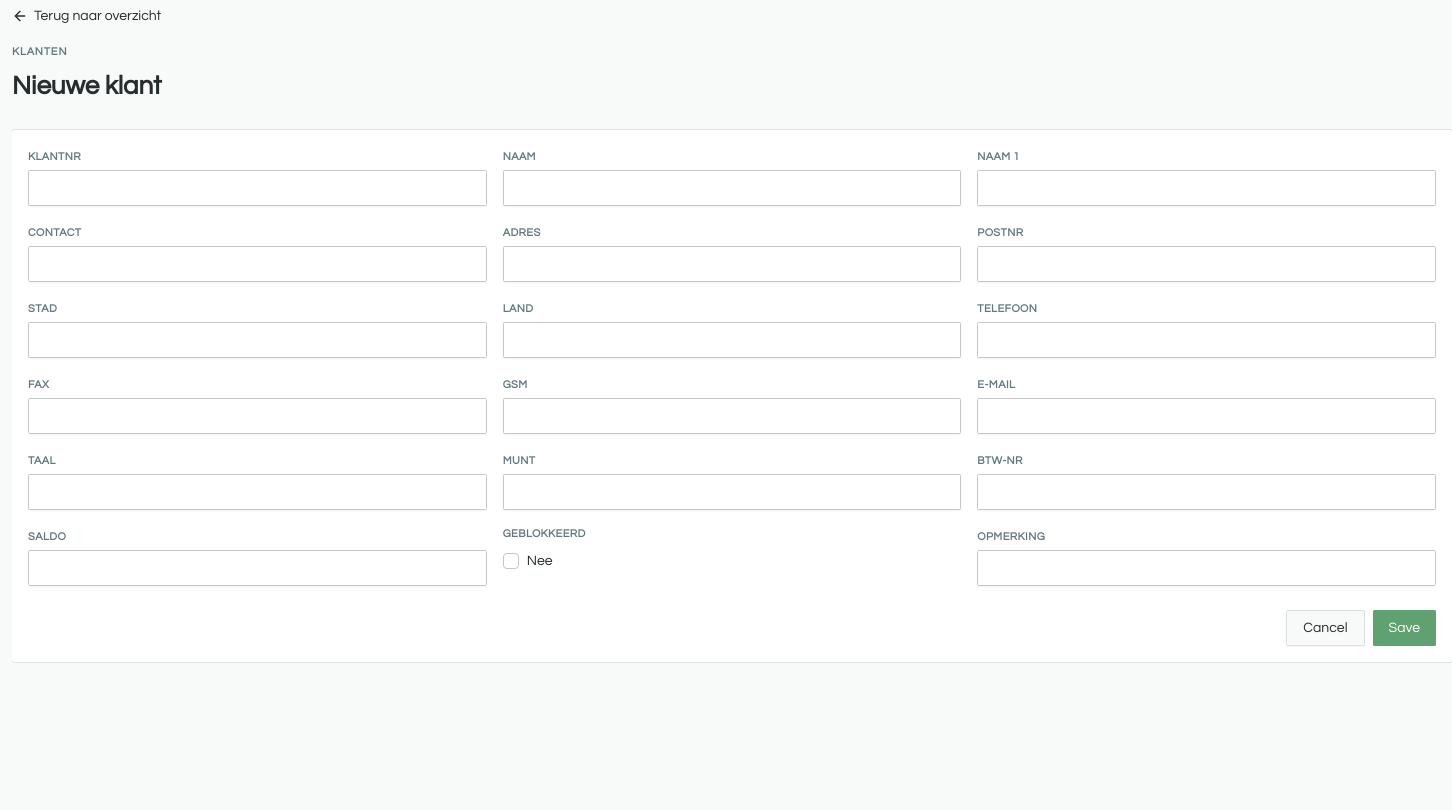
Test: KlantCreatePage › rejects a missing/non-numeric klnr
The width and height of the screenshot is (1452, 810).
Click the button "Save" at (1404, 628), box [1372, 610, 1436, 646]
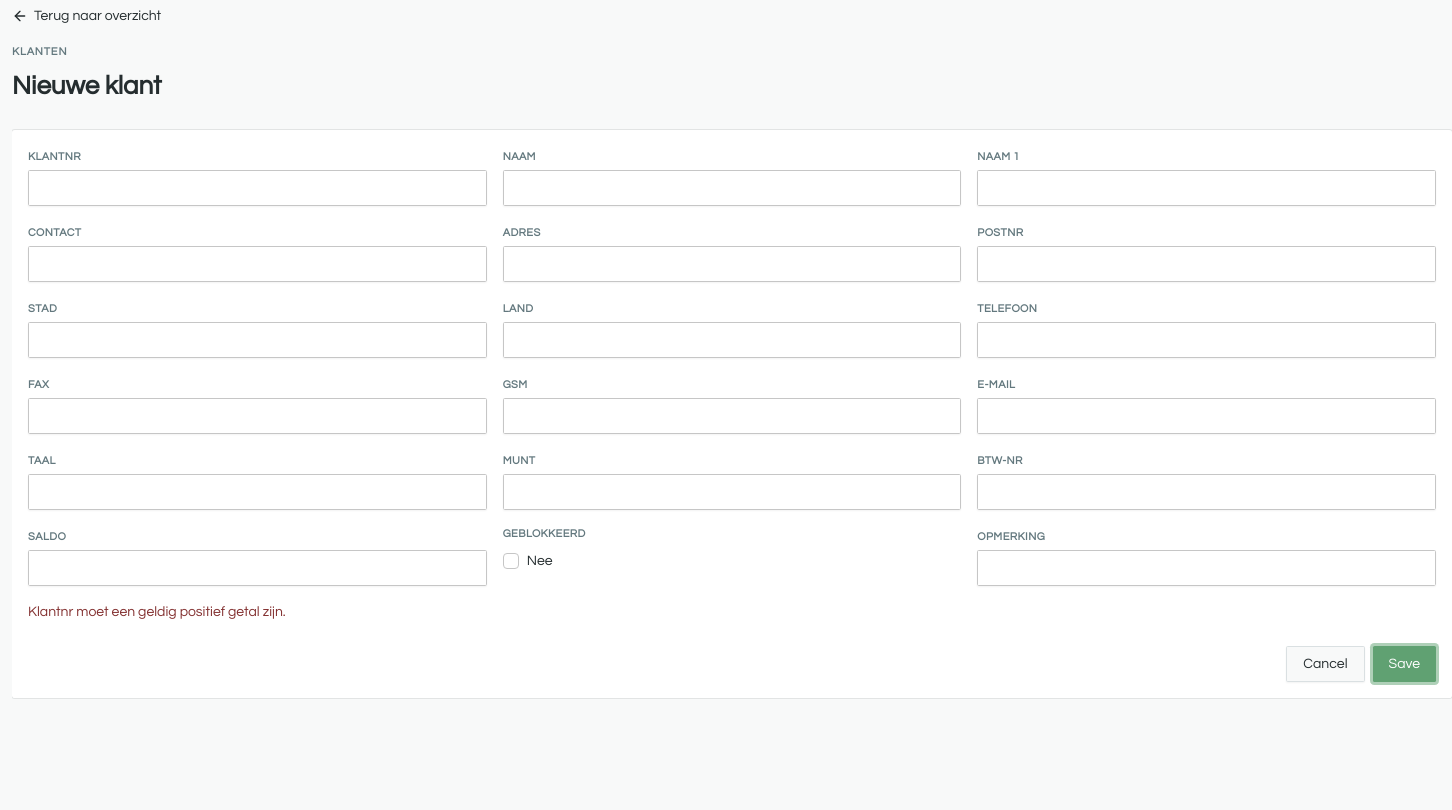
expect the text "Klantnr moet een geldig positief getal zijn." is shown: met, box [28, 604, 286, 618]
